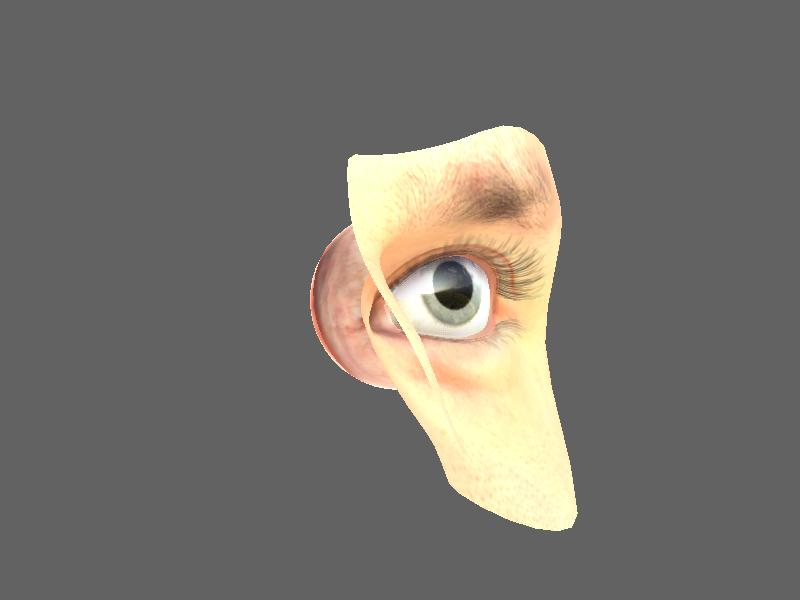iris: (419, 262, 484, 329)
